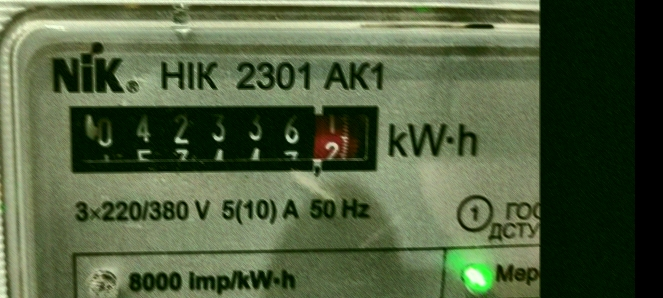0: (93, 114, 112, 147)
1: (323, 108, 335, 134)
2: (169, 110, 190, 144), (320, 139, 337, 160)
3: (206, 109, 224, 141), (245, 109, 262, 141)
4: (133, 110, 150, 142)
6: (280, 111, 300, 145)
screen: (55, 91, 390, 182)
